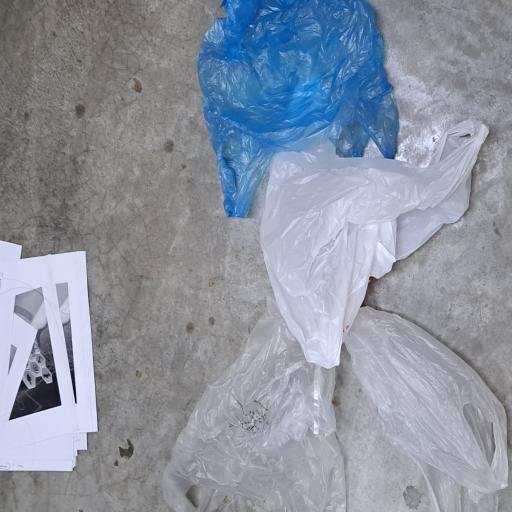paper: (29, 0, 203, 131)
plastic bag: (2, 210, 384, 512)
